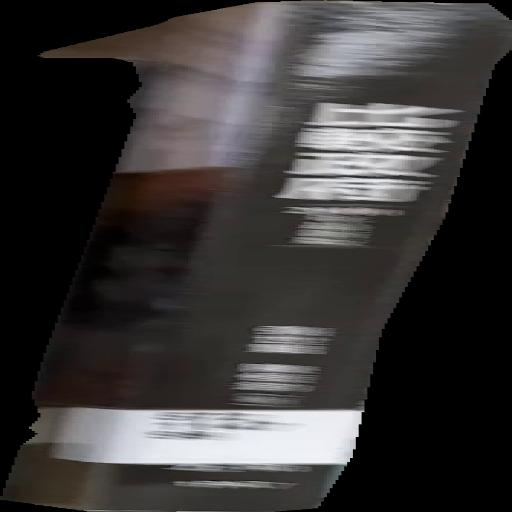book: (1, 1, 512, 512)
